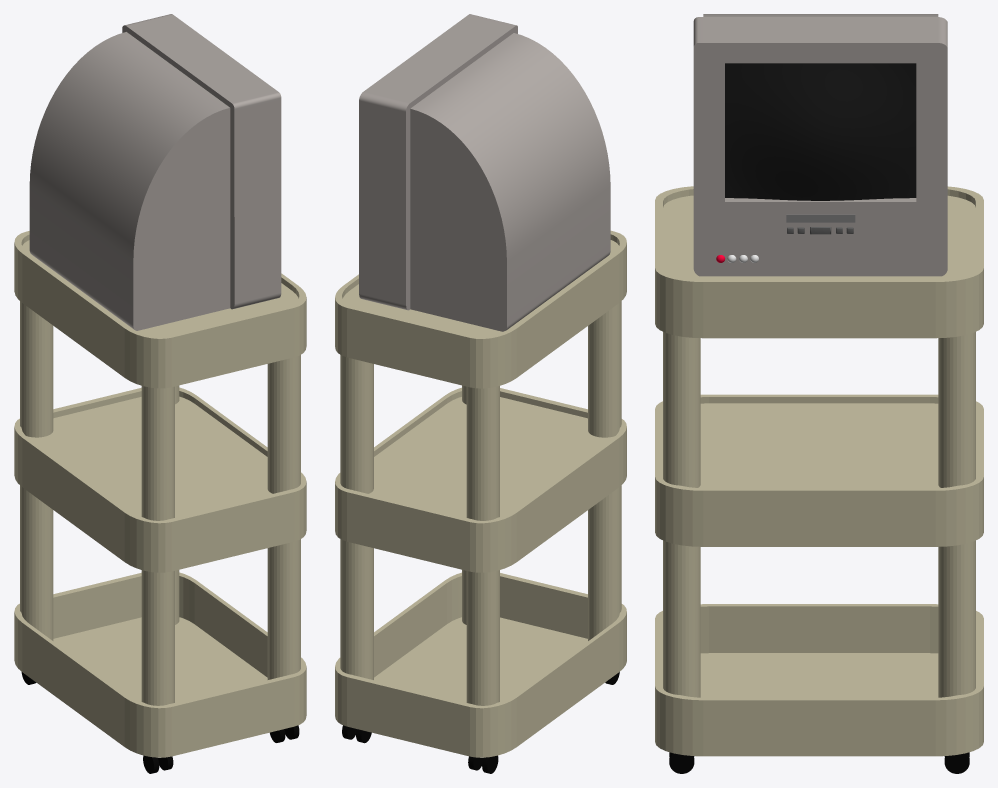
Rendered from rollingCart.fbx.
The picture shows the model from 3 angles, left to right: view 1: azimuth 30°, elevation 25°; view 2: azimuth 150°, elevation 25°; view 3: azimuth 270°, elevation 25°; orthographic projection. The views are drawn at different scales.
Visible parts, largest first — view 1: Cube.011, Cube.001, Cube.002, Cube, Cylinder.003, Cylinder.001, Cylinder.004; view 2: Cube.011, Cube.001, Cube.002, Cube, Cylinder.004, Cylinder.002, Cylinder.003; view 3: Cube.001, Cube.002, Cube.011, Cube, Cube.010, Cylinder.001, Cylinder.002, Cube.009.
Boxes of the visible parts, x1,y1,x2,y2 form: Cube.011: (29, 14, 281, 330); Cube.001: (14, 387, 306, 572); Cube.002: (14, 572, 306, 757); Cube: (14, 231, 306, 388); Cylinder.003: (141, 386, 174, 705); Cylinder.001: (267, 355, 300, 679); Cylinder.004: (20, 301, 53, 640); Cube.011: (359, 14, 610, 331); Cube.001: (335, 387, 626, 572); Cube.002: (335, 572, 626, 757); Cube: (335, 230, 626, 388); Cylinder.004: (466, 386, 499, 705); Cylinder.002: (340, 355, 373, 679); Cylinder.003: (588, 301, 621, 640); Cube.001: (655, 394, 983, 546); Cube.002: (655, 604, 983, 756); Cube.011: (693, 14, 947, 276); Cube: (655, 186, 983, 338); Cube.010: (725, 63, 916, 200); Cylinder.001: (663, 332, 700, 697); Cylinder.002: (938, 332, 975, 697); Cube.009: (786, 214, 855, 222).
Bounding box in the file's own units: 90 × 317 × 130.
